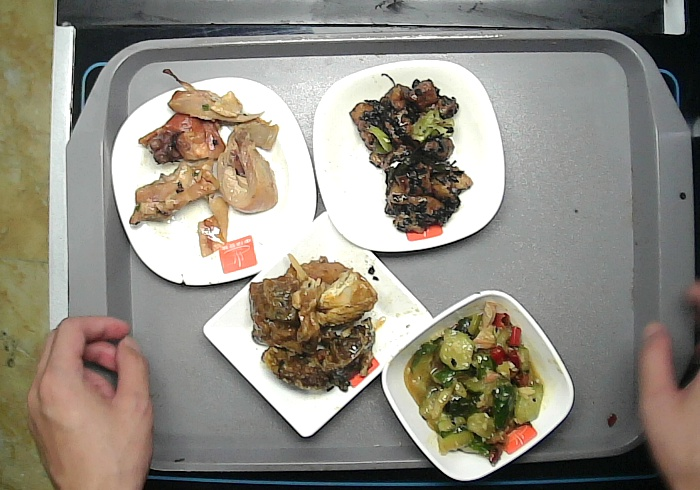SHKJ-Bai_Se_Cai_Die: (312, 58, 508, 254)
SHKJ-Bai_Se_Si_Fang_Cai_Die: (111, 76, 319, 286)
SHKJ-Bai_Se_Xiao_Fang_Die: (381, 289, 576, 481)
SHKJ-Si_Fang_Min: (201, 209, 436, 440)
